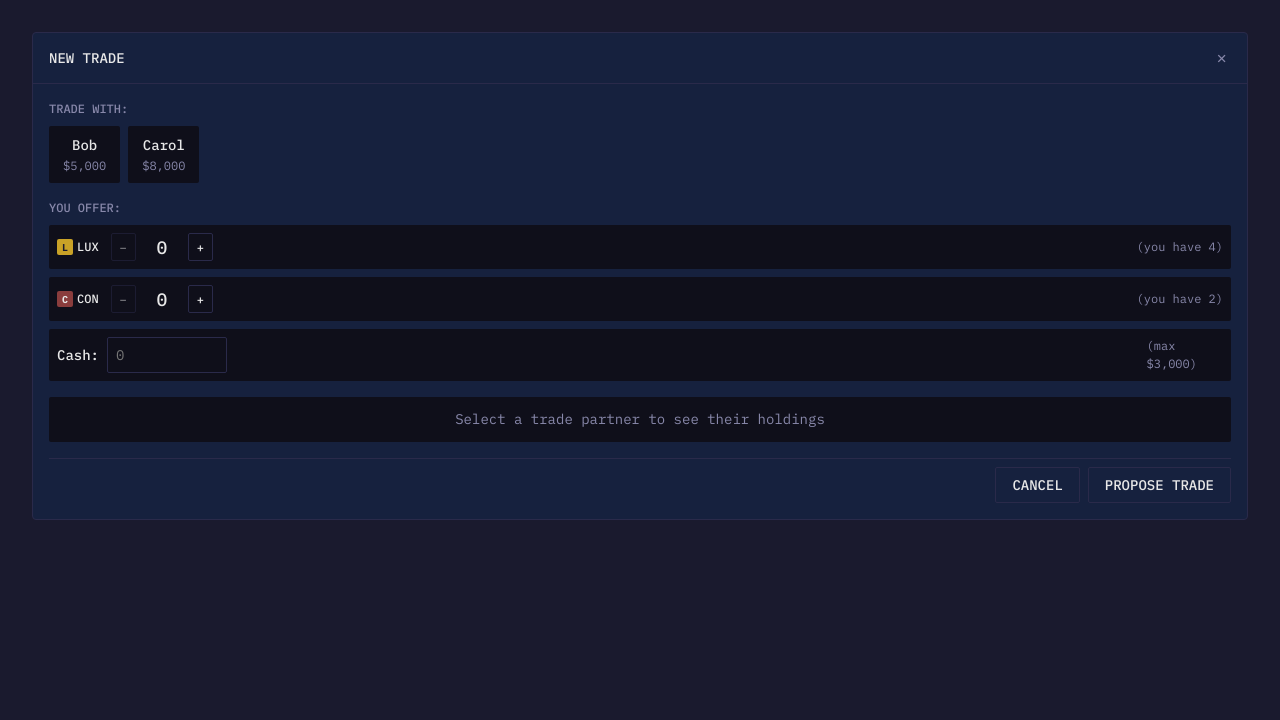
Scenario: TradeBuilder › player selection › selects a trade partner when clicked
The width and height of the screenshot is (1280, 720).
Click the button with test id "player-select-player-2". click: (85, 154)
box: x1=49 y1=126 x2=120 y2=183
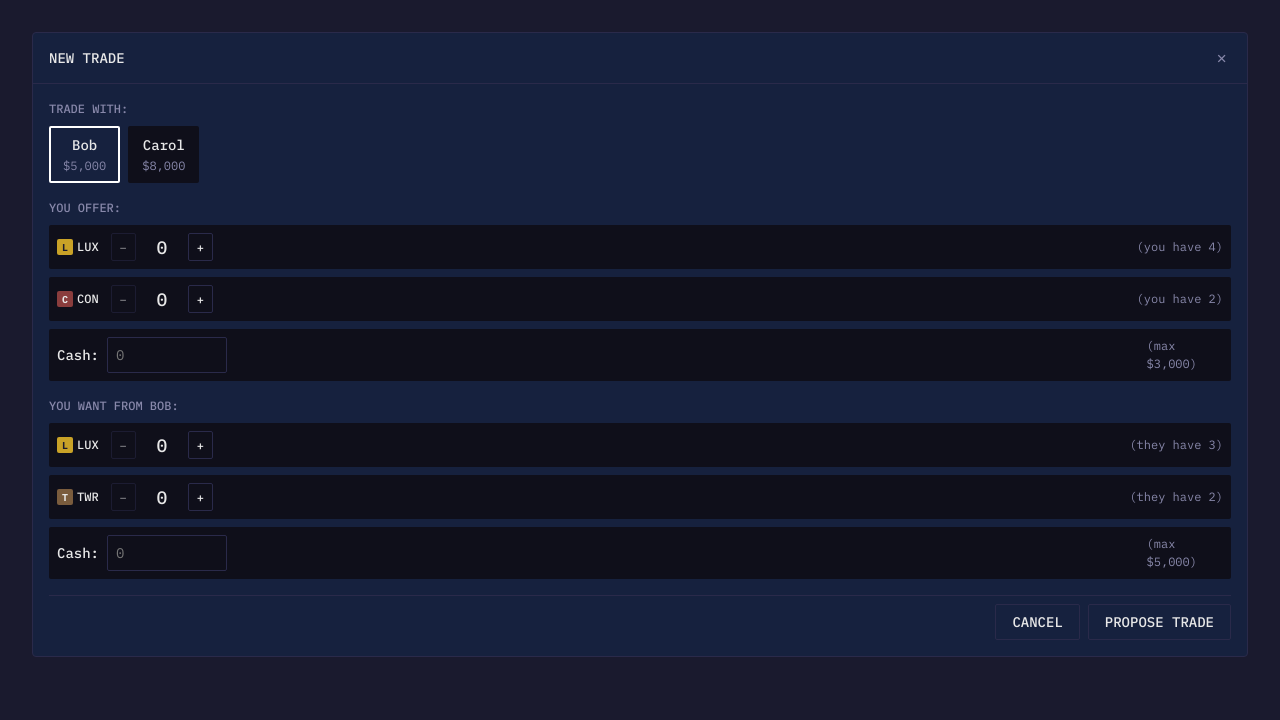
Expected: the text "YOU WANT FROM BOB:" is shown, x1=49 y1=398 x2=179 y2=413
